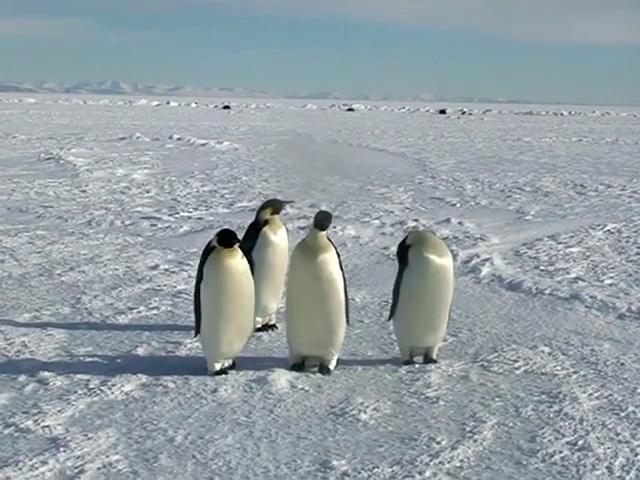animal: (388, 230, 453, 364)
